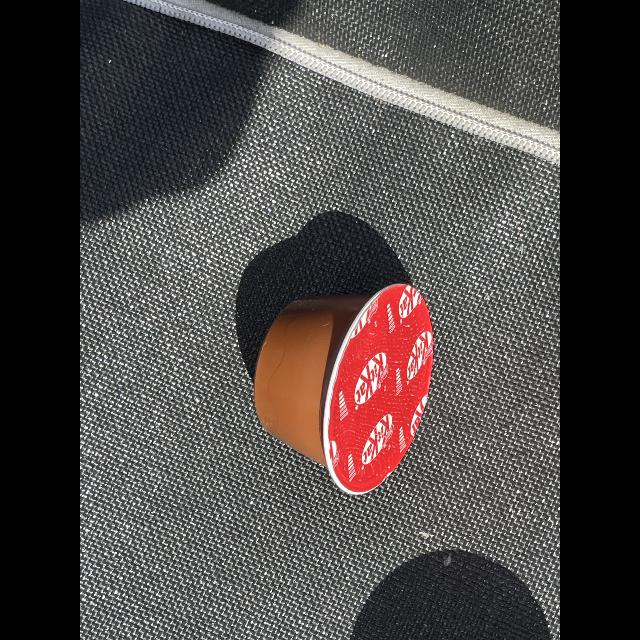intact_capsule: (237, 272, 443, 510)
